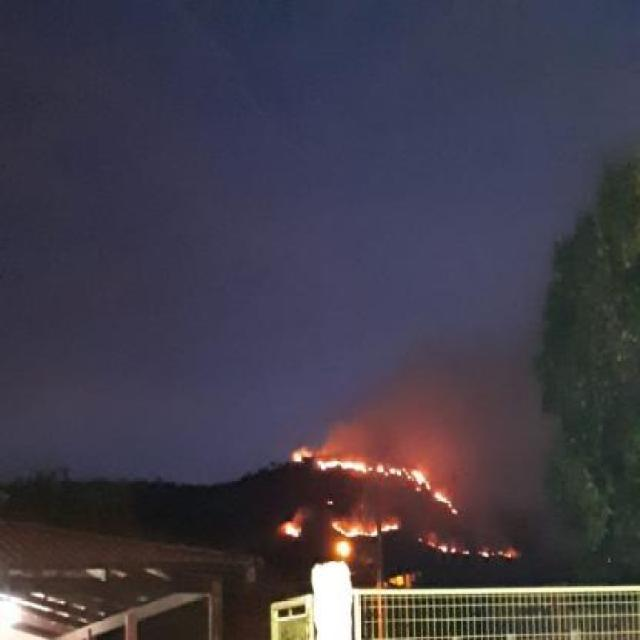Fire: (288, 440, 463, 523), (274, 503, 406, 540), (421, 532, 521, 563)
